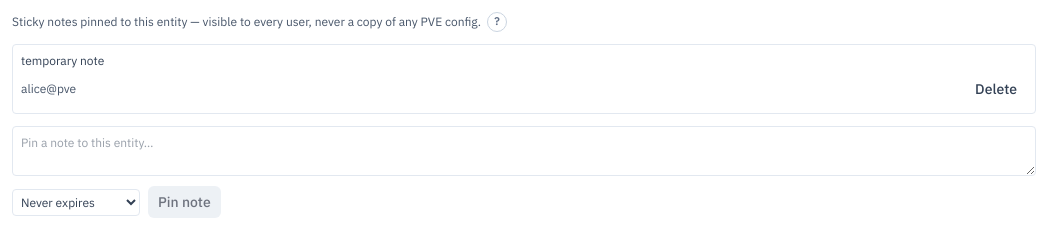
Test case: AnnotationsSection › deleting a note removes it from the list
Click the button with aria-label "Delete note": click(996, 89) x1=965 y1=73 x2=1027 y2=105
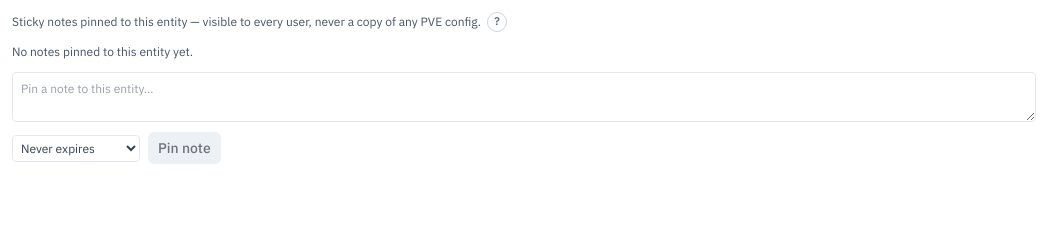
Now the text "temporary note" is gone
Now the list item "No notes pinned to this entity yet." is shown, box x1=12 y1=44 x2=193 y2=59
